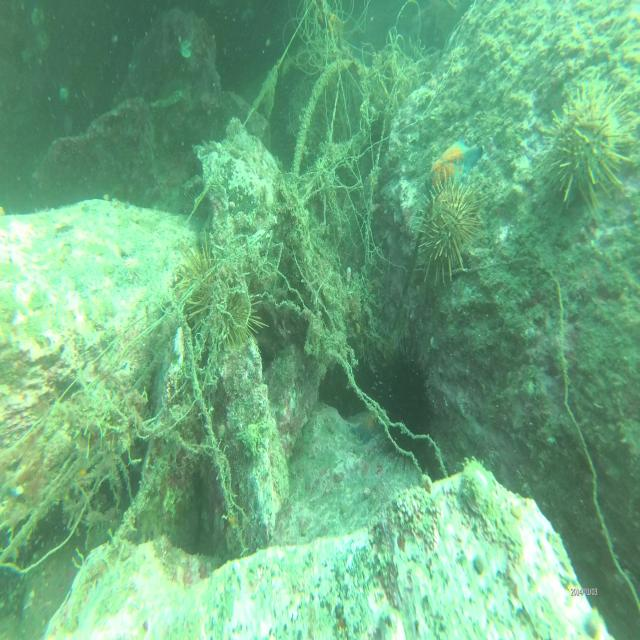echinus: (545, 91, 634, 219), (418, 186, 483, 286)
starfish: (426, 138, 485, 194), (171, 328, 186, 372)
